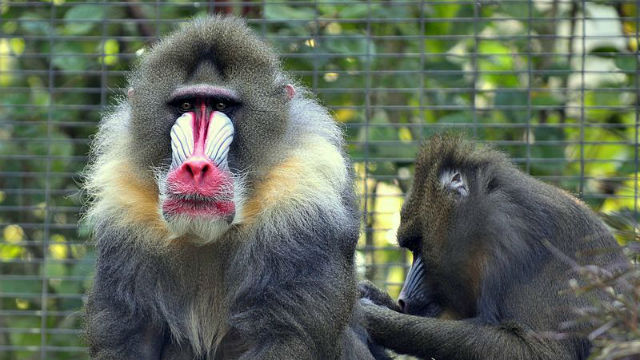Mandrill: (81, 14, 360, 357), (407, 146, 623, 357)
